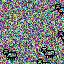sheep: (3, 49, 18, 61), (41, 47, 55, 59), (55, 4, 64, 15), (58, 30, 64, 43), (36, 59, 51, 64)
